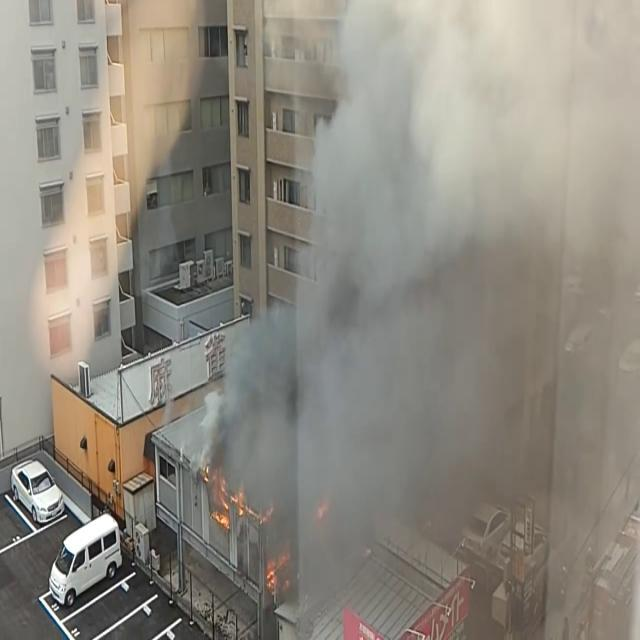Fire: (204, 463, 246, 533)
Smoke: (202, 0, 640, 602)
